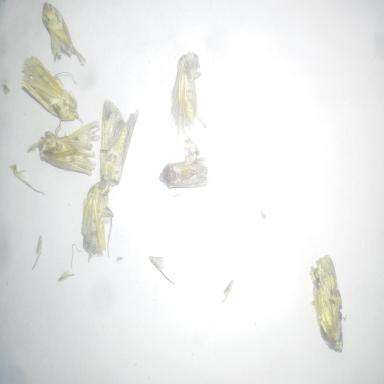abw: (18, 52, 86, 130), (307, 249, 351, 358), (32, 116, 103, 180), (96, 94, 143, 190), (168, 48, 210, 142), (77, 174, 118, 270), (39, 1, 89, 70), (156, 150, 213, 198)
